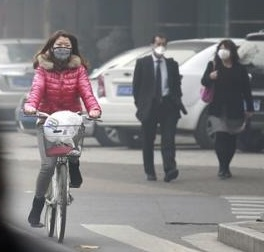person: (21, 29, 104, 247), (130, 33, 188, 182), (200, 38, 256, 181)
